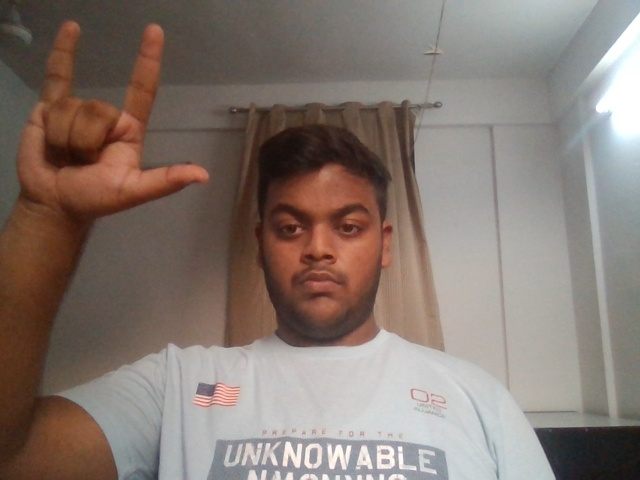I Love You: (3, 3, 217, 273)
